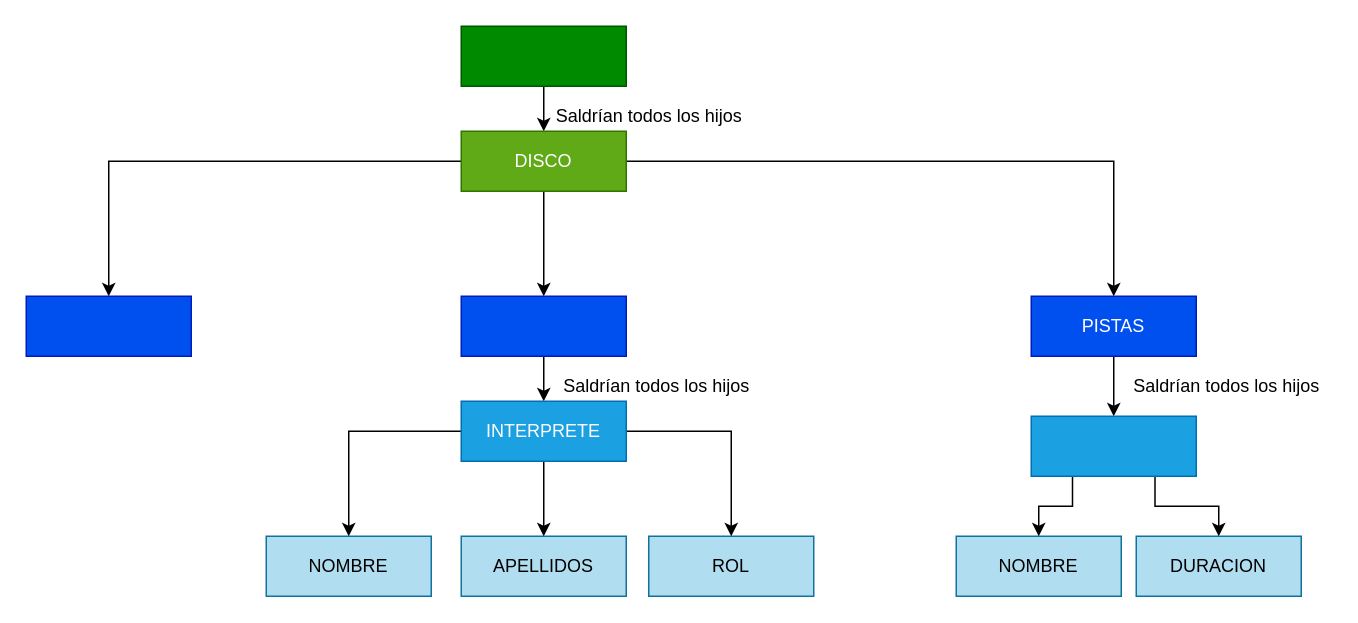
Some shapes in this 1358 by 623 pixel diagram are drawn without their labels. The centre of each missing label's shape, as x and y in pixels:
DISCOS: point 543,55
INTERPRETES: point 543,325
PISTA: point 1113,445
TITULO: point 108,325
